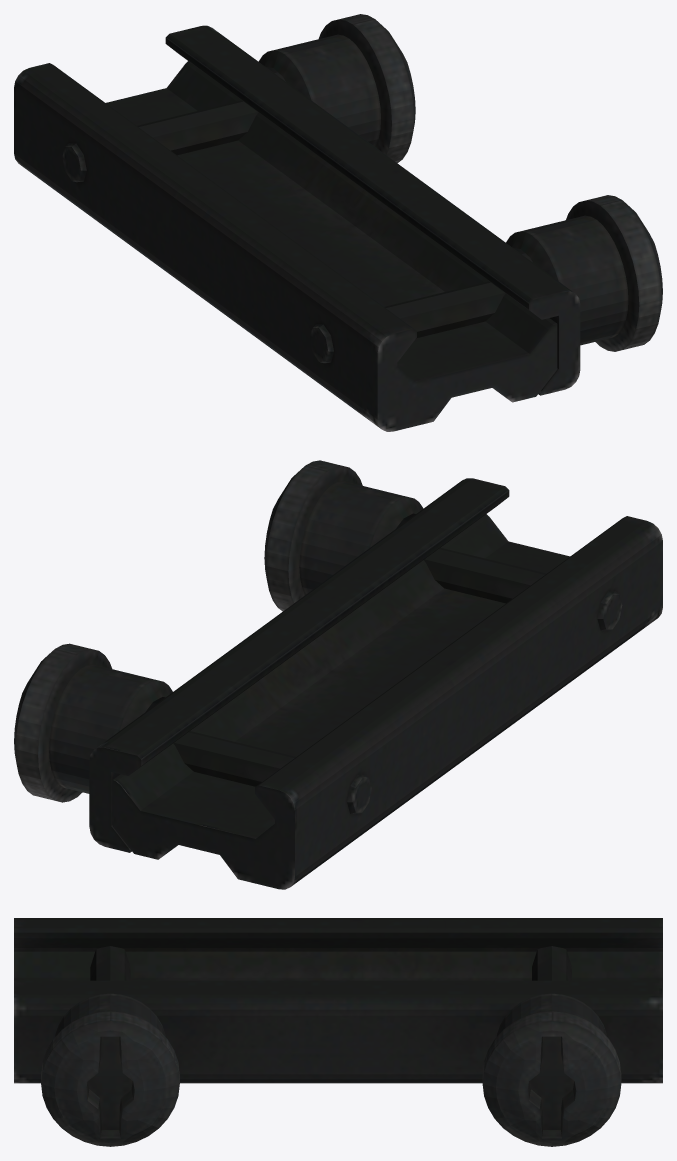
The picture shows the model from 3 angles, top to bottom: view 1: azimuth 30°, elevation 25°; view 2: azimuth 150°, elevation 25°; view 3: azimuth 270°, elevation 25°; orthographic projection. The views are drawn at different scales.
Visible parts, largest first — view 1: TW_59db7eed86f77461f8380365_PZ_Import; view 2: TW_59db7eed86f77461f8380365_PZ_Import; view 3: TW_59db7eed86f77461f8380365_PZ_Import.
Part boxes in pixels (<box>): TW_59db7eed86f77461f8380365_PZ_Import: <box>14,14,662,431</box>; TW_59db7eed86f77461f8380365_PZ_Import: <box>14,460,662,889</box>; TW_59db7eed86f77461f8380365_PZ_Import: <box>14,918,662,1146</box>.
Bounding box in the file's own units: 0.0259 × 0.0509 × 0.0109.
1 material, 1 textured.
